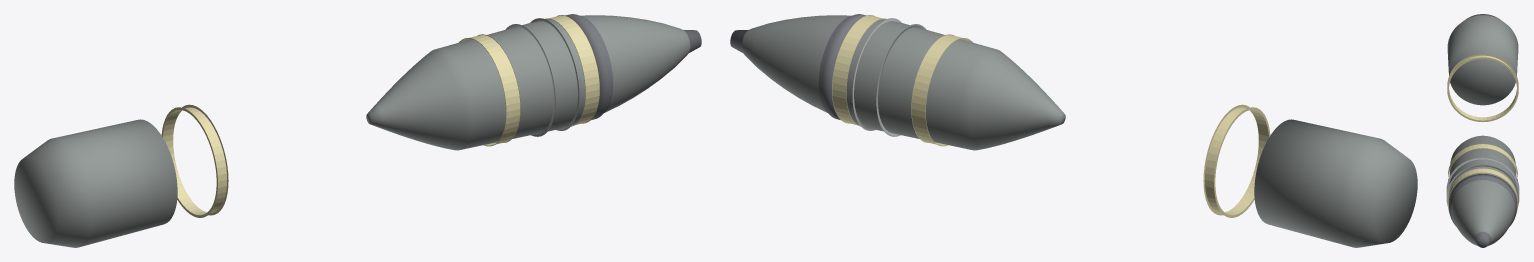
File: FR_SLBM_M1_LOD0.fbx
3 views of the same model, side by side, from view 1: azimuth 30°, elevation 25°; view 2: azimuth 150°, elevation 25°; view 3: azimuth 270°, elevation 25° (orthographic). The views are drawn at different scales.
Parts seen in each view (by area): view 1: WPN_FR_SLBM_M1_LOD0_Body, WPN_FR_SLBM_M1_LOD0_Tail, WPN_FR_SLBM_M1_LOD0_Marking, WPN_FR_SLBM_M1_LOD0_Nose, WPN_FR_SLBM_M1_LOD0_Detail; view 2: WPN_FR_SLBM_M1_LOD0_Body, WPN_FR_SLBM_M1_LOD0_Tail, WPN_FR_SLBM_M1_LOD0_Marking, WPN_FR_SLBM_M1_LOD0_Nose, WPN_FR_SLBM_M1_LOD0_Detail; view 3: WPN_FR_SLBM_M1_LOD0_Tail, WPN_FR_SLBM_M1_LOD0_Body, WPN_FR_SLBM_M1_LOD0_Marking, WPN_FR_SLBM_M1_LOD0_Nose, WPN_FR_SLBM_M1_LOD0_Detail.
Boxes of the visible parts, bbox=[...] form: WPN_FR_SLBM_M1_LOD0_Body: bbox=[366, 15, 690, 150]; WPN_FR_SLBM_M1_LOD0_Tail: bbox=[14, 119, 177, 247]; WPN_FR_SLBM_M1_LOD0_Marking: bbox=[161, 15, 599, 217]; WPN_FR_SLBM_M1_LOD0_Nose: bbox=[565, 14, 701, 119]; WPN_FR_SLBM_M1_LOD0_Detail: bbox=[505, 18, 579, 136]; WPN_FR_SLBM_M1_LOD0_Body: bbox=[741, 15, 1065, 150]; WPN_FR_SLBM_M1_LOD0_Tail: bbox=[1254, 119, 1417, 247]; WPN_FR_SLBM_M1_LOD0_Marking: bbox=[832, 15, 1270, 217]; WPN_FR_SLBM_M1_LOD0_Nose: bbox=[730, 14, 866, 119]; WPN_FR_SLBM_M1_LOD0_Detail: bbox=[852, 18, 926, 136]; WPN_FR_SLBM_M1_LOD0_Tail: bbox=[1447, 14, 1518, 105]; WPN_FR_SLBM_M1_LOD0_Body: bbox=[1448, 135, 1517, 246]; WPN_FR_SLBM_M1_LOD0_Marking: bbox=[1447, 54, 1518, 213]; WPN_FR_SLBM_M1_LOD0_Nose: bbox=[1449, 174, 1516, 247]; WPN_FR_SLBM_M1_LOD0_Detail: bbox=[1446, 157, 1519, 206].
Size of the model in its own units: 10.4 by 1.58 by 1.58.
